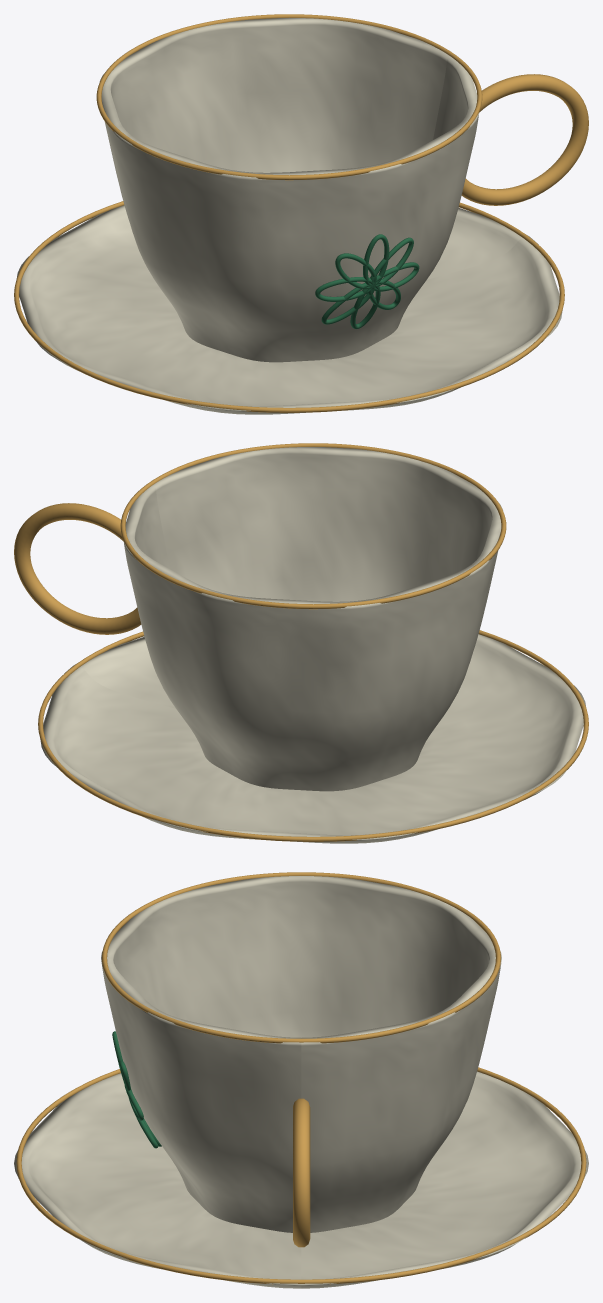
File: bcm-985.glb
3 renders of one model, top to bottom at view 1: azimuth 30°, elevation 25°; view 2: azimuth 150°, elevation 25°; view 3: azimuth 270°, elevation 25°, orthographic. The views are drawn at different scales.
Parts seen in each view (by area): view 1: Continuous hollow vessel with formed lip, Saucer gilt, Petal relief - approximate; view 2: Continuous hollow vessel with formed lip, Saucer gilt; view 3: Continuous hollow vessel with formed lip, Saucer gilt, Petal relief - approximate.
Part boxes in pixels (<box>): Continuous hollow vessel with formed lip: <box>16,17,562,414</box>; Saucer gilt: <box>14,14,588,412</box>; Petal relief - approximate: <box>315,234,419,329</box>; Continuous hollow vessel with formed lip: <box>40,447,586,843</box>; Saucer gilt: <box>14,443,588,841</box>; Continuous hollow vessel with formed lip: <box>14,876,588,1288</box>; Saucer gilt: <box>16,872,586,1284</box>; Petal relief - approximate: <box>112,1031,161,1148</box>.
Size of the model in its own units: 0.9803 by 0.3938 by 0.8755.
